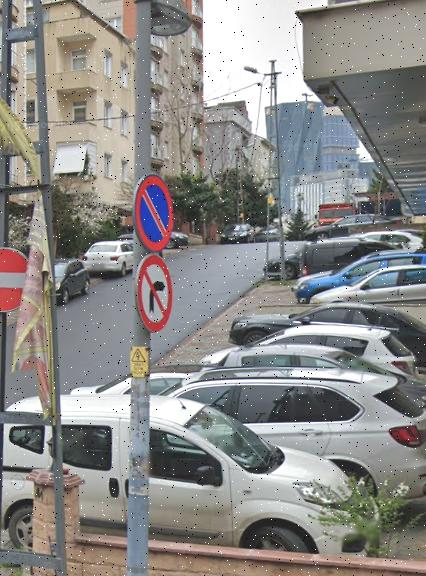nopark: (134, 174, 173, 249)
turnright: (135, 255, 175, 332)
